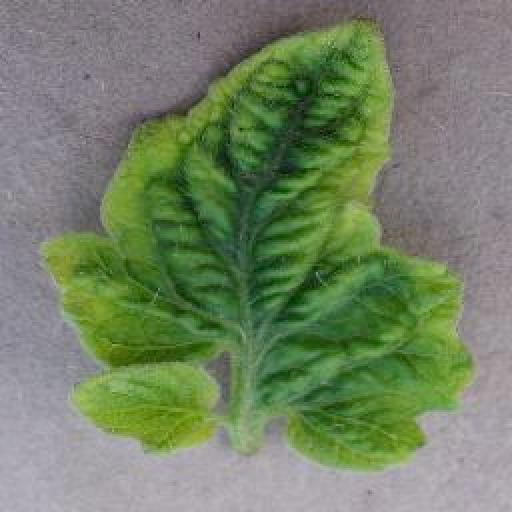disease_tomato: (34, 14, 476, 470)
